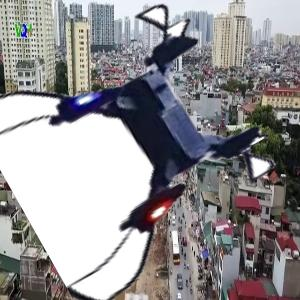drone: (6, 17, 264, 275)
